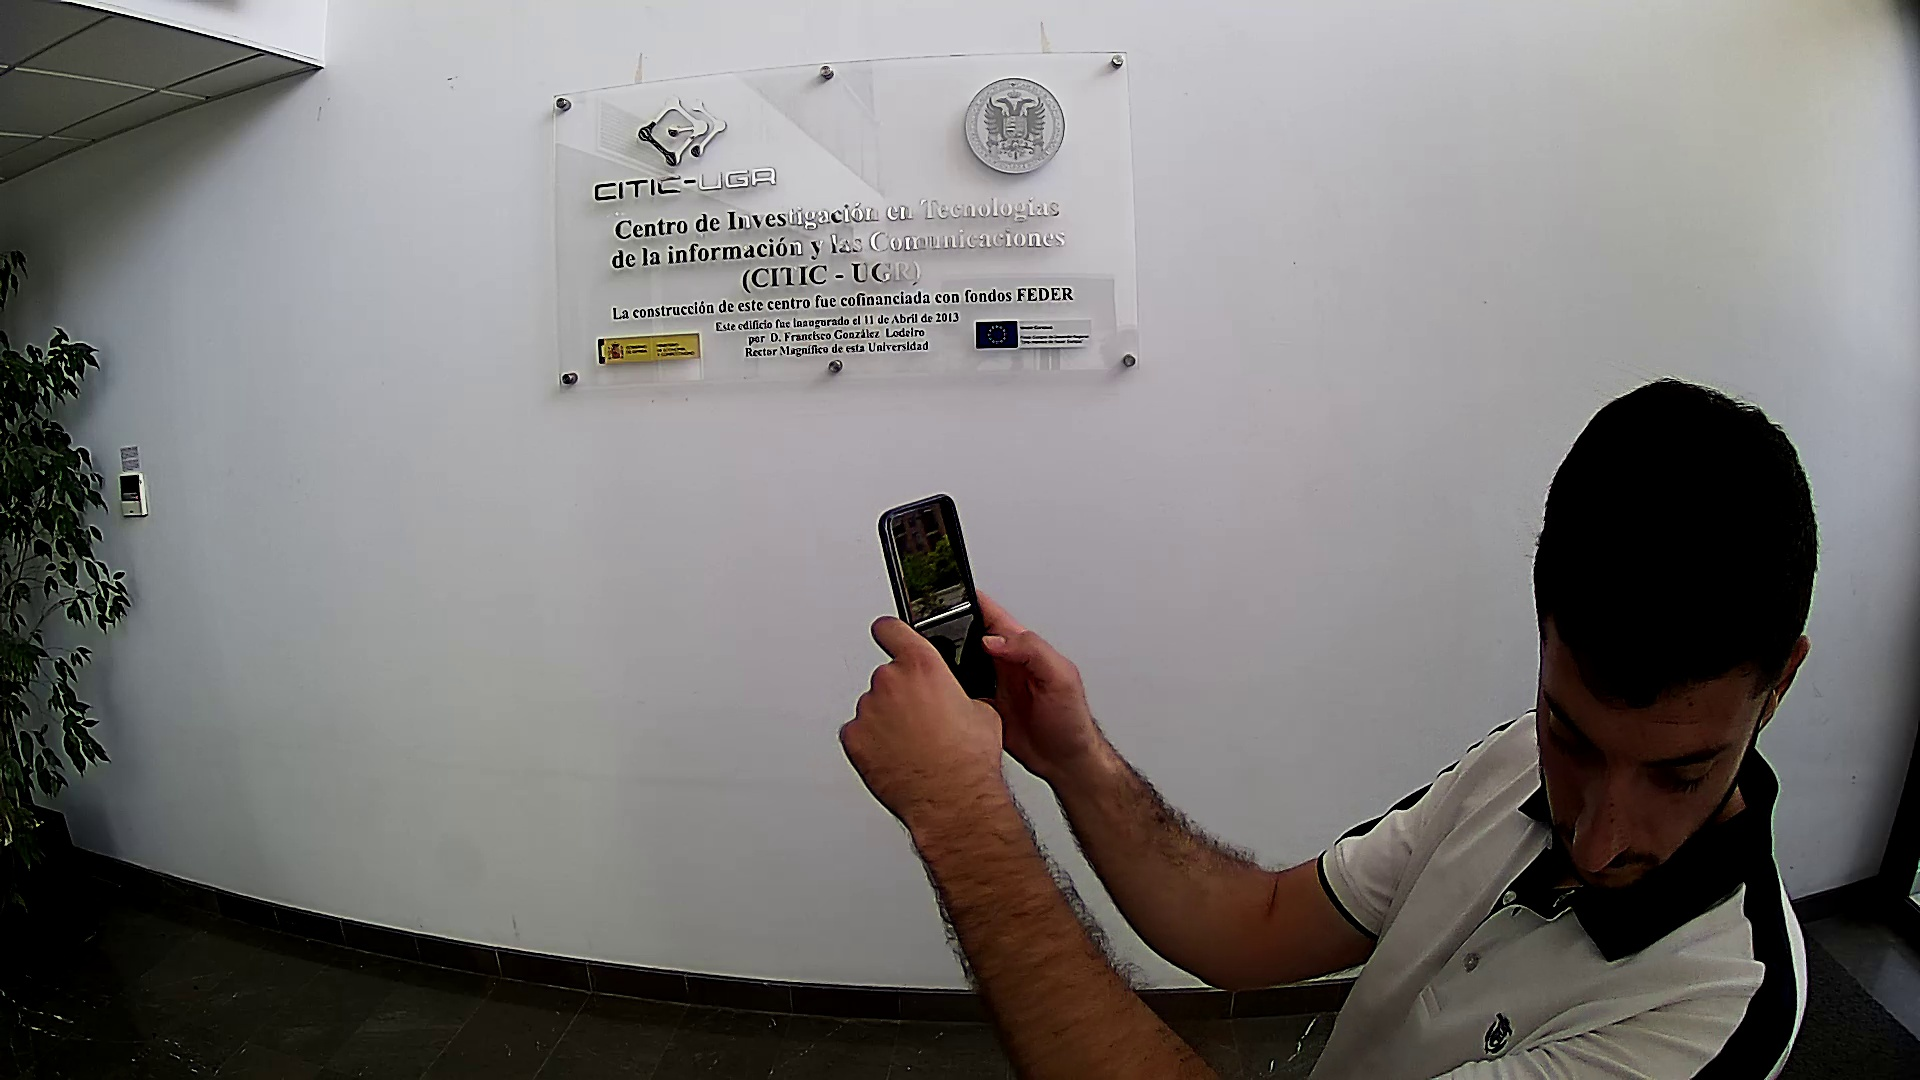smartphone: (877, 493, 1007, 717)
